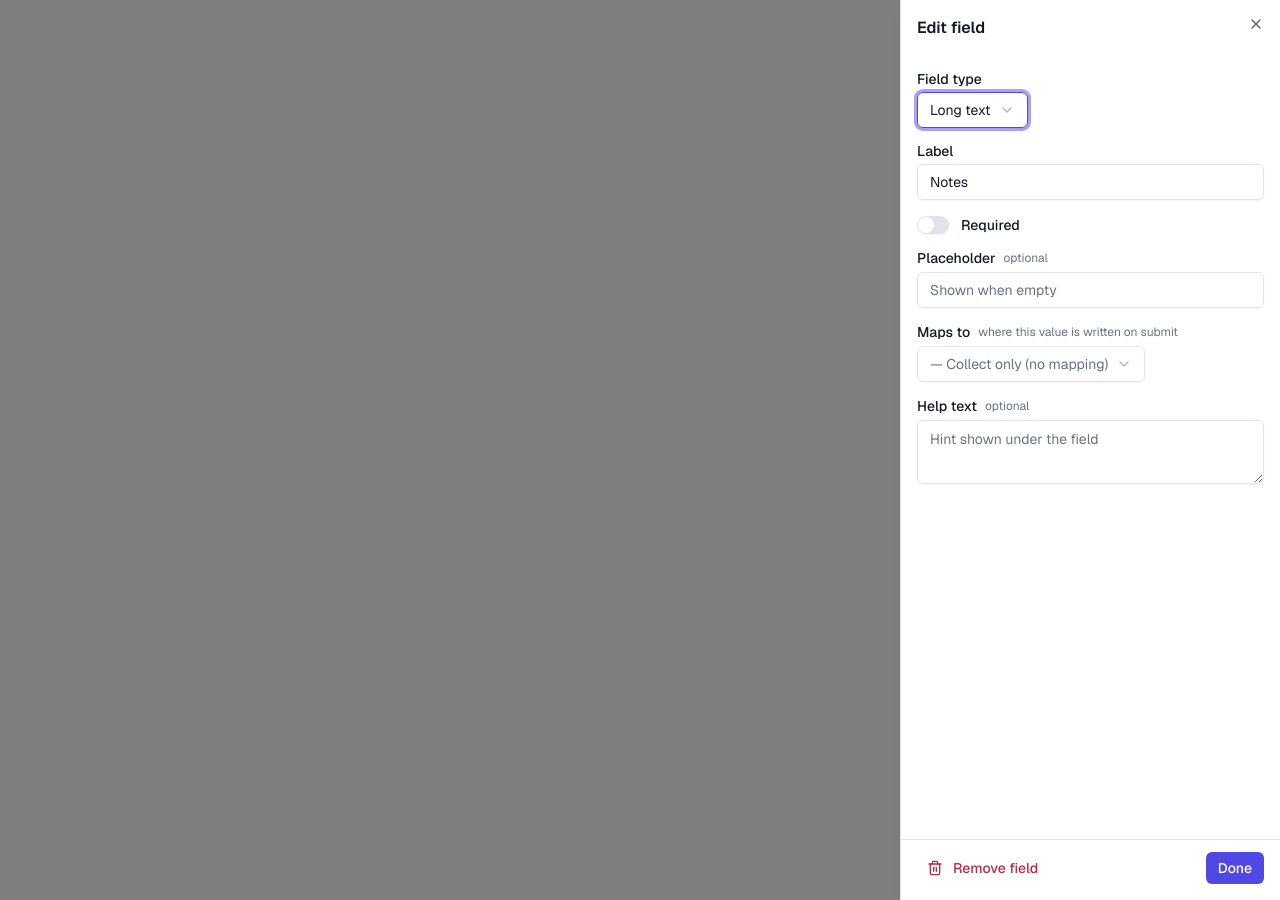
Scenario: FieldConfigSheet — Maps to filtering › shows only 'description' in the Maps to dropdown for a long_text field
Click the dropdown named "maps to": (1031, 364) top-left (917, 346), bottom-right (1145, 382)
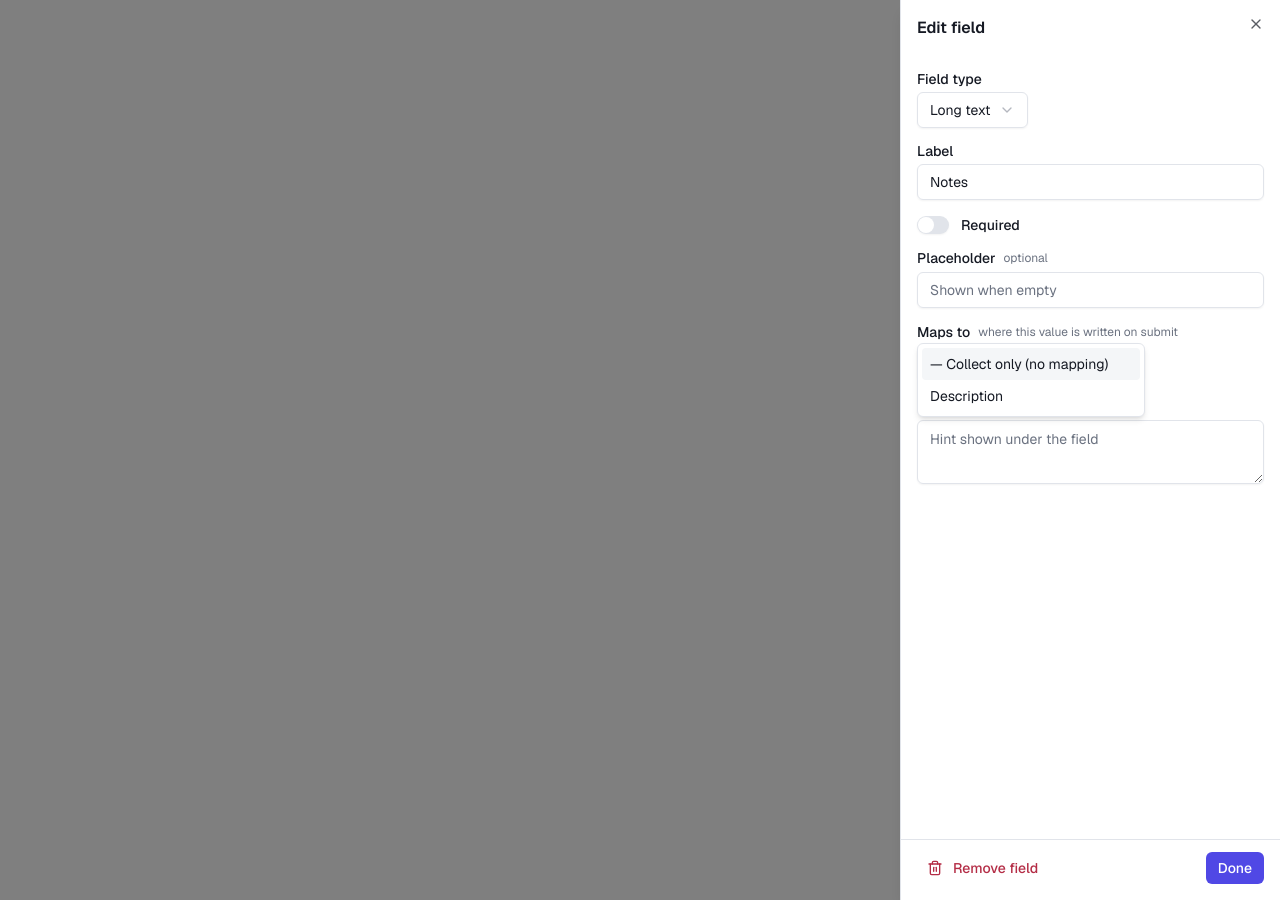
Now the option "Description" is shown, box top-left (930, 387), bottom-right (1003, 405)
